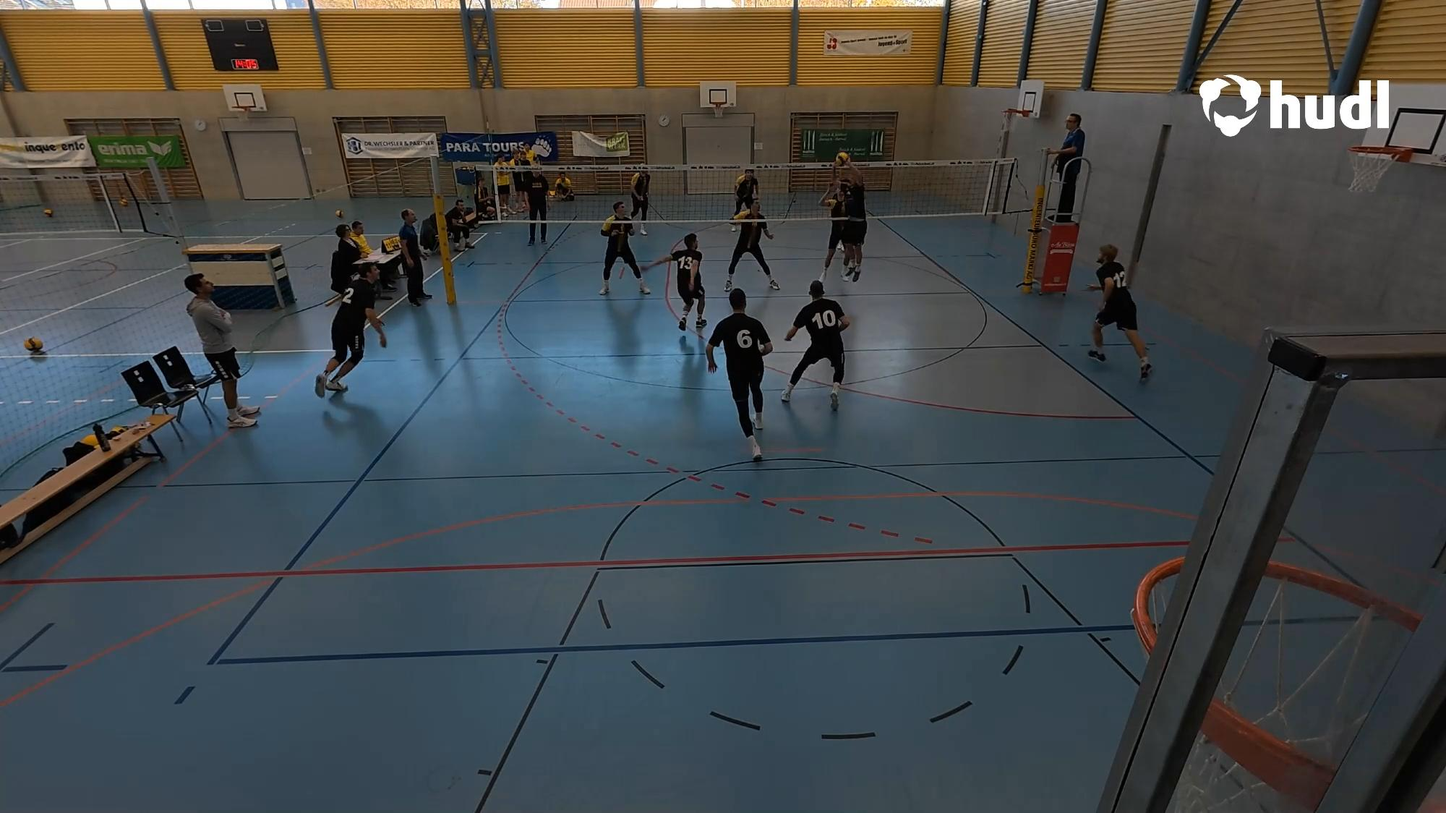Player: (708, 290, 772, 462), (775, 281, 853, 403), (1086, 244, 1152, 380), (315, 273, 384, 396), (724, 202, 779, 294), (599, 205, 651, 298), (669, 235, 708, 341), (815, 170, 850, 288), (730, 163, 761, 230), (628, 168, 654, 231)
Set: (826, 159, 871, 288)
ball: (836, 150, 853, 163)
